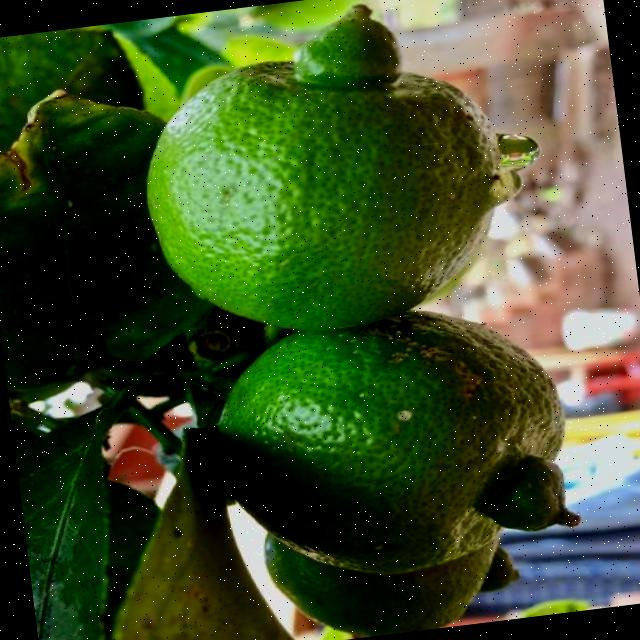Unripe: (121, 0, 510, 351), (194, 294, 582, 596)
